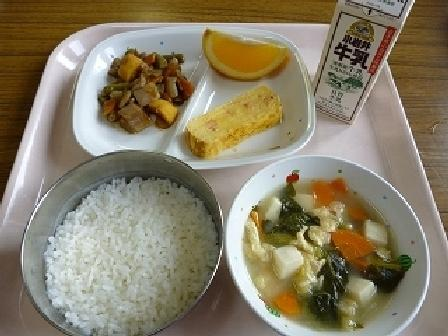Citrus: (190, 14, 281, 85)
Milk: (302, 0, 418, 118)
Rice: (26, 148, 223, 324)
Soups: (222, 168, 425, 332)
egg product: (185, 87, 285, 160)
vegetable based cooked food: (78, 32, 194, 133)
